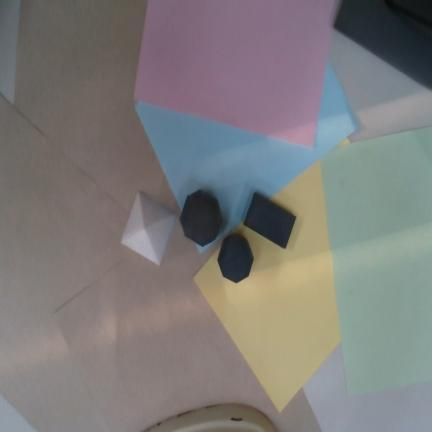Paralelepipedo: (243, 193, 296, 250)
Piramide: (120, 191, 177, 266)
Prisma_hexagonal: (180, 189, 221, 248), (217, 233, 254, 284)
